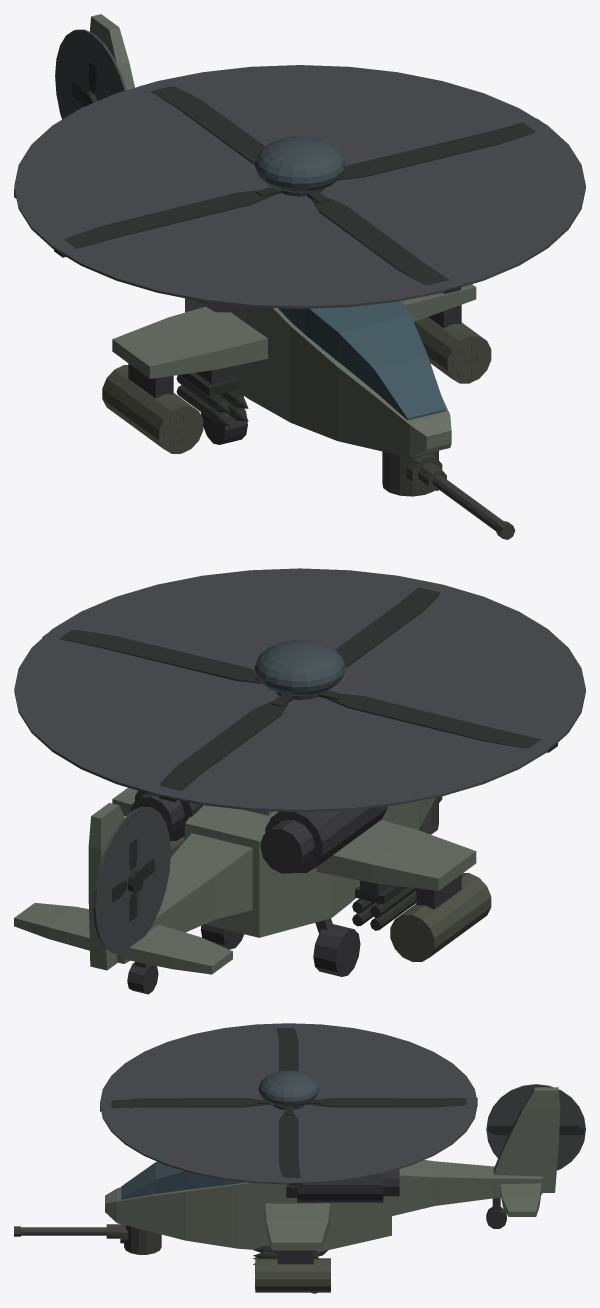
The model's file is AH64.pre_artpass_0116a.fbx.
The picture shows the model from 3 angles, top to bottom: view 1: azimuth 30°, elevation 25°; view 2: azimuth 150°, elevation 25°; view 3: azimuth 270°, elevation 25°; orthographic projection. The views are drawn at different scales.
Visible parts, largest first — view 1: RotorBlurMain, Airframe, MainRotor, Canopy, PodRocketR, RadarDome, RotorBlurTail, PodRocketL, AirframeDark, PodMissileR, ChinTurret, ChinBarrel; view 2: RotorBlurMain, Airframe, MainRotor, AirframeDark, RotorBlurTail, PodRocketR, RadarDome, PodMissileR, TailRotor; view 3: RotorBlurMain, Airframe, MainRotor, AirframeDark, RotorBlurTail, PodRocketL, Canopy, RadarDome, ChinBarrel, ChinTurret, TailRotor.
Boxes of the visible parts, x1,y1,x2,y2 form: RotorBlurMain: (14, 65, 585, 308); Airframe: (14, 14, 476, 457); MainRotor: (54, 86, 539, 293); Canopy: (278, 301, 445, 420); PodRocketR: (102, 365, 203, 453); RadarDome: (254, 136, 345, 192); RotorBlurTail: (55, 29, 126, 119); PodRocketL: (414, 317, 491, 383); AirframeDark: (128, 188, 461, 444); PodMissileR: (176, 372, 248, 425); ChinTurret: (382, 450, 442, 496); ChinBarrel: (418, 463, 515, 539); RotorBlurMain: (14, 568, 585, 812); Airframe: (14, 787, 476, 974); MainRotor: (42, 587, 557, 801); AirframeDark: (127, 692, 461, 994); RotorBlurTail: (93, 807, 170, 953); PodRocketR: (390, 873, 491, 961); RadarDome: (254, 640, 345, 695); PodMissileR: (352, 885, 416, 930); TailRotor: (93, 839, 154, 921); RotorBlurMain: (100, 1023, 477, 1184); Airframe: (105, 1087, 560, 1252); MainRotor: (100, 1028, 477, 1185); AirframeDark: (273, 1104, 506, 1293); RotorBlurTail: (486, 1084, 585, 1170); PodRocketL: (255, 1258, 330, 1292); Canopy: (121, 1161, 245, 1199); RadarDome: (258, 1070, 319, 1107); ChinBarrel: (14, 1224, 120, 1238); ChinTurret: (120, 1224, 161, 1254); TailRotor: (488, 1086, 584, 1135).
Size of the model in its own units: 4.4 by 2.52 by 6.66.
